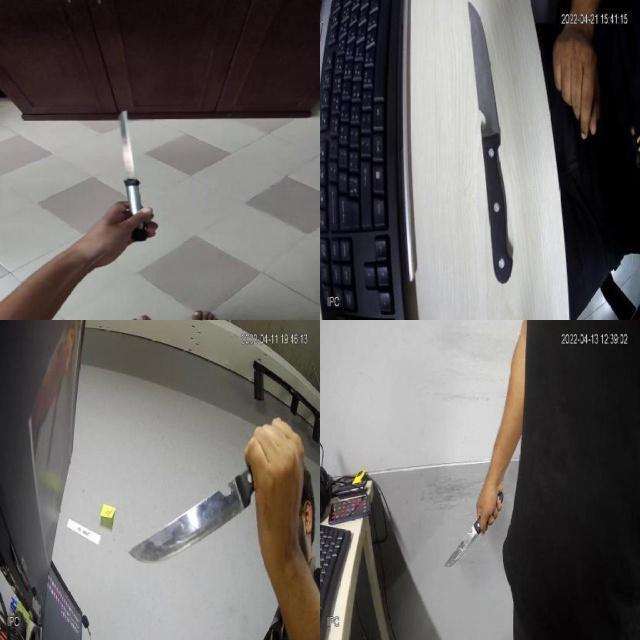-: (465, 2, 523, 280), (129, 456, 244, 575), (101, 107, 152, 192), (440, 519, 485, 579)
